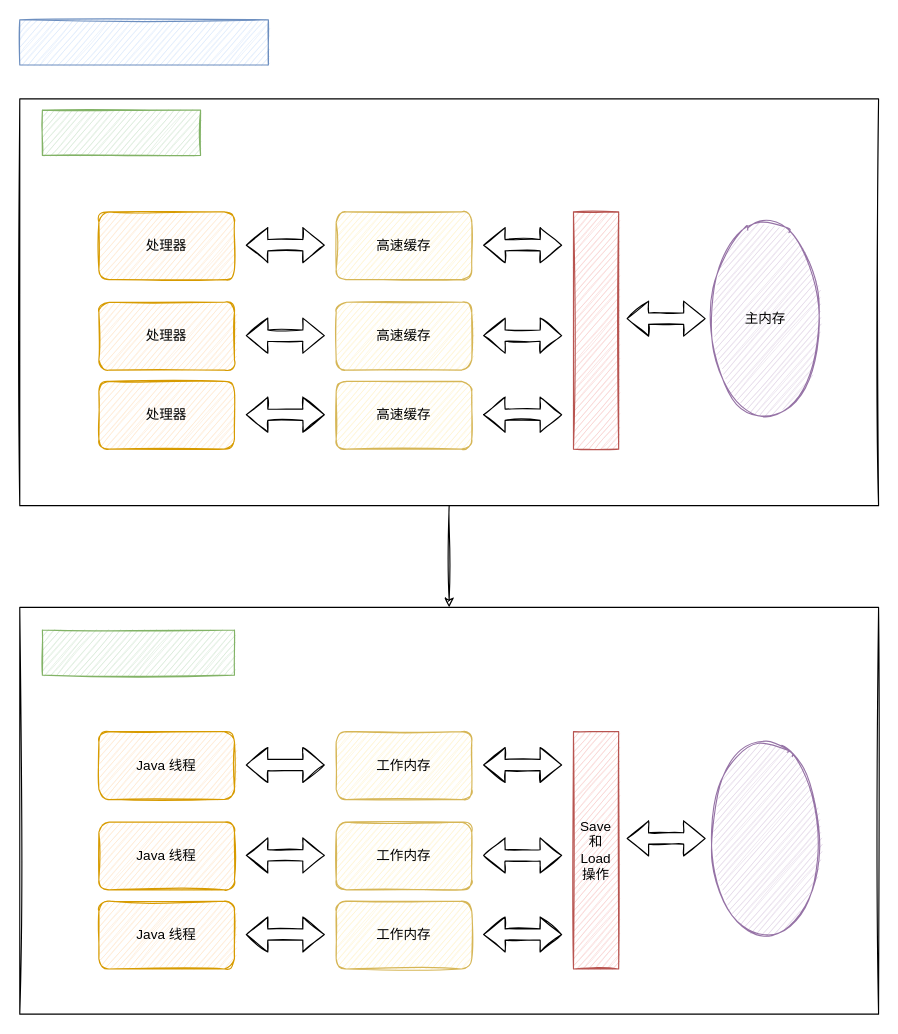
The diagram is 898 pixels wide and 1034 high, and some of its shapes have lost their labels. Each missing label, with the box of its shape:
Java 内存模型: (19, 19, 268, 65)
Java 内存模型 (JMM,Java Memory Model): (41, 629, 234, 675)
主内存 (实质是虚拟机内存的一部分): (708, 742, 822, 935)
物理计算机的并发模型: (41, 109, 201, 155)
缓存一致性协议: (572, 211, 619, 449)
